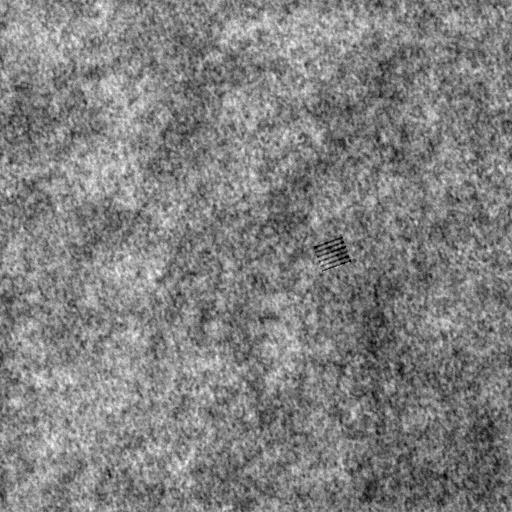impact: (311, 234, 354, 273)
